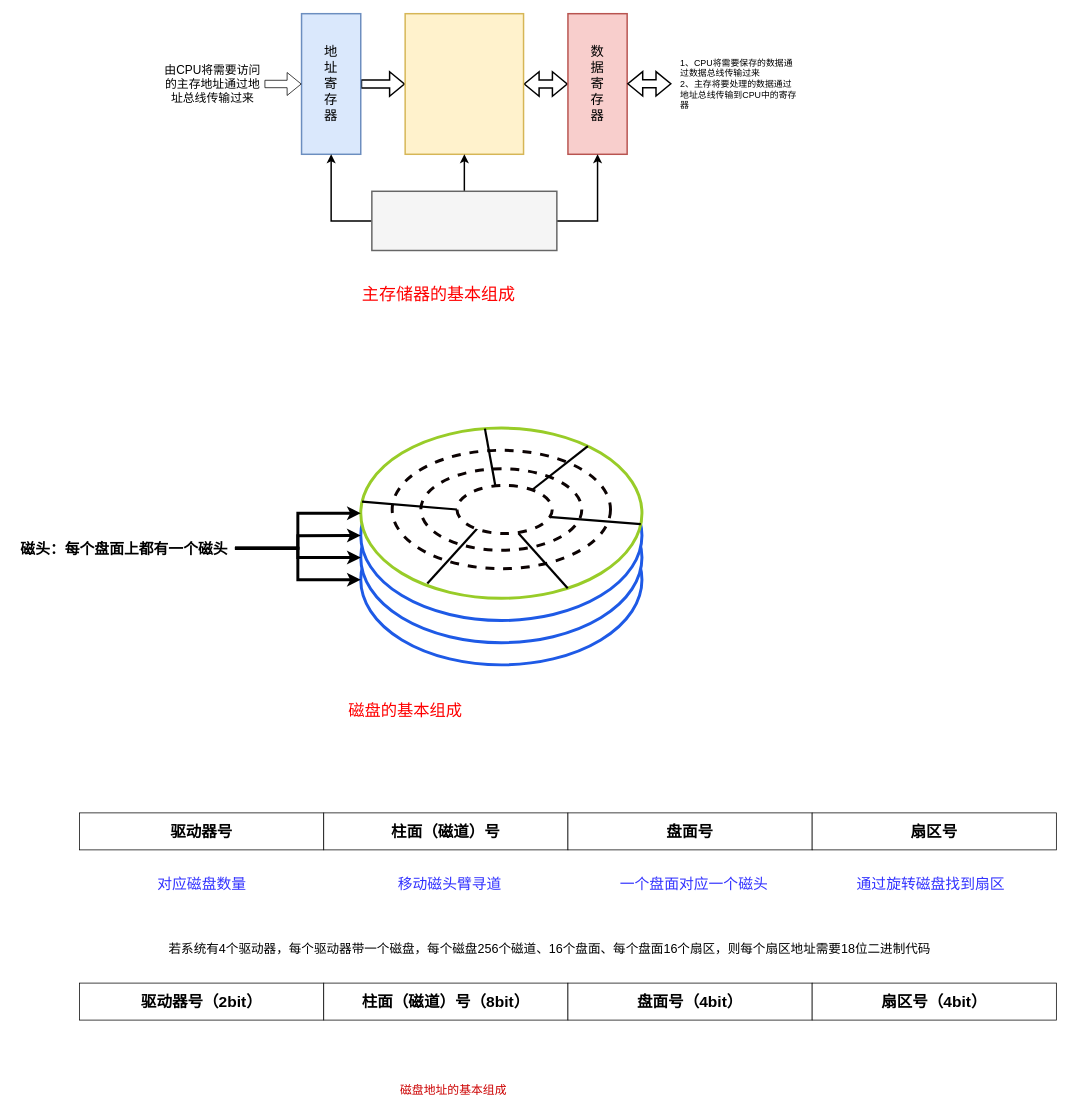
The diagram is 1069 pixels wide and 1114 high, and some of its shapes have lost their labels. Each missing label, with the centre of its shape:
"存 储 体 存储具体的数据" goes at [464,84].
"时序控制逻辑" goes at [464,220].
